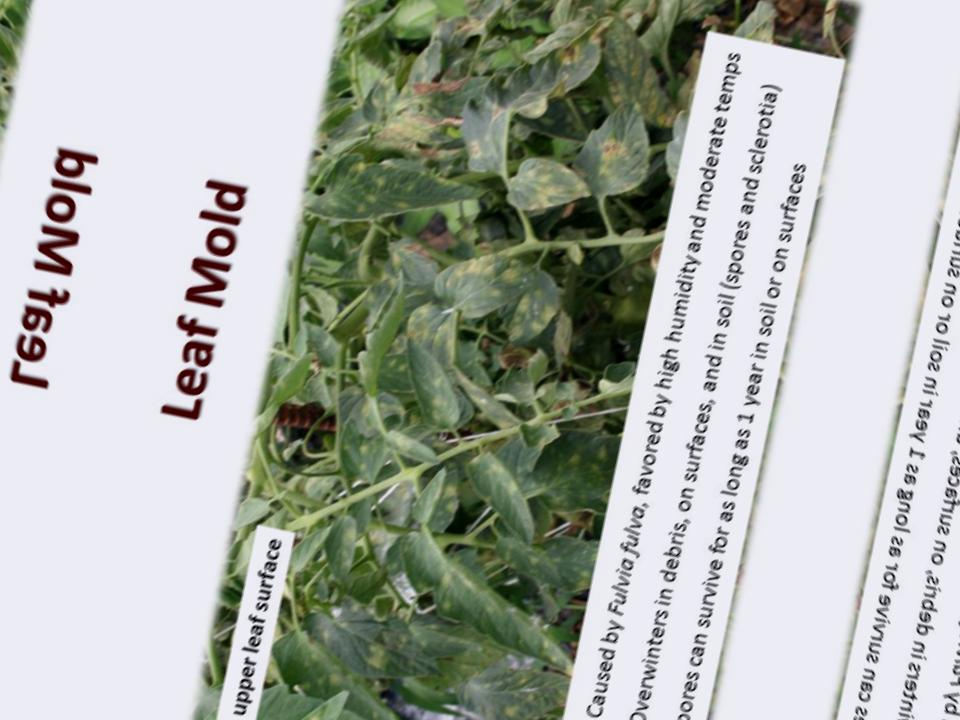Tomato mold leaf: (382, 535, 590, 680), (461, 0, 608, 170), (305, 150, 491, 262), (256, 611, 442, 720), (311, 604, 472, 703), (380, 285, 486, 433), (571, 9, 688, 132), (565, 85, 666, 206), (452, 447, 555, 552), (427, 243, 533, 331), (499, 149, 604, 233), (487, 525, 596, 600), (330, 412, 393, 487), (407, 459, 459, 537), (319, 507, 366, 582), (381, 428, 445, 466)
